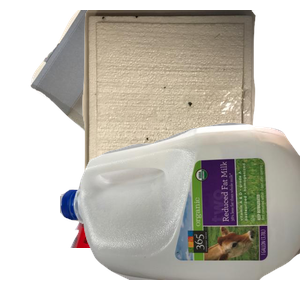glass: (68, 120, 255, 300)
paper: (28, 10, 268, 190)
plastic: (60, 120, 300, 300)
trash: (80, 10, 300, 190)
